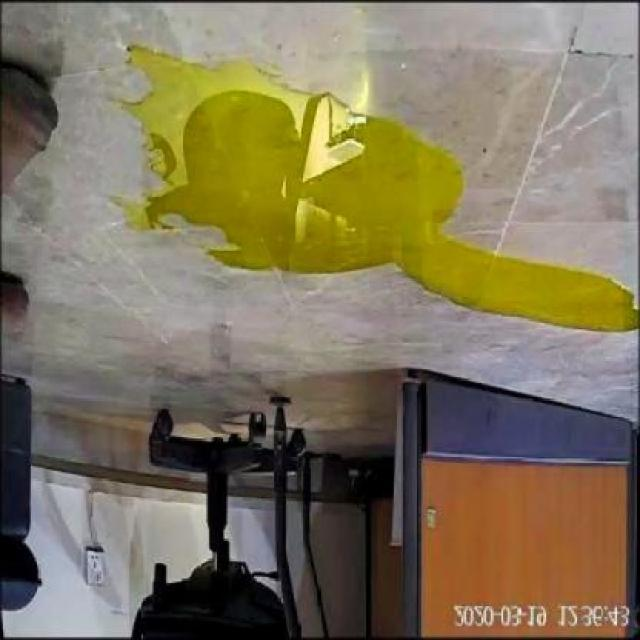spillage: (119, 45, 639, 332)
